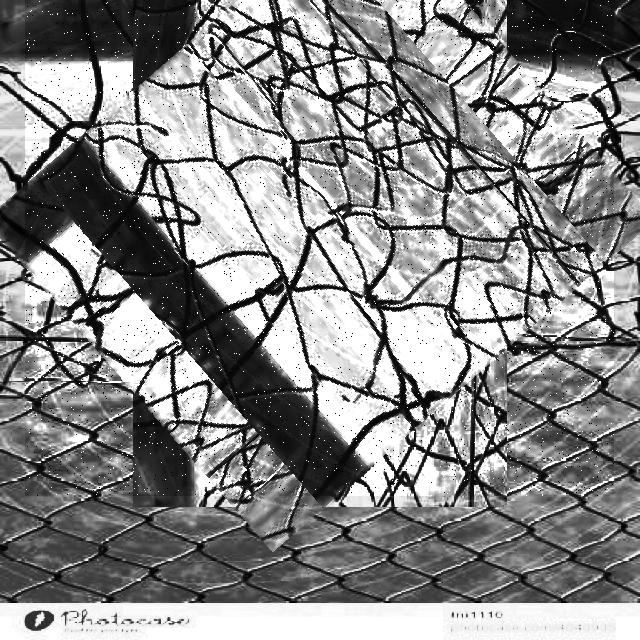anomaly-fence: (25, 0, 614, 496)
